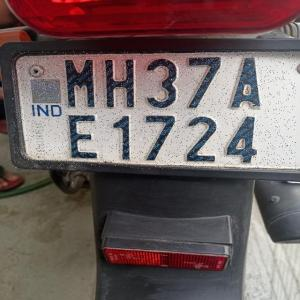Plate: (12, 51, 296, 169)
